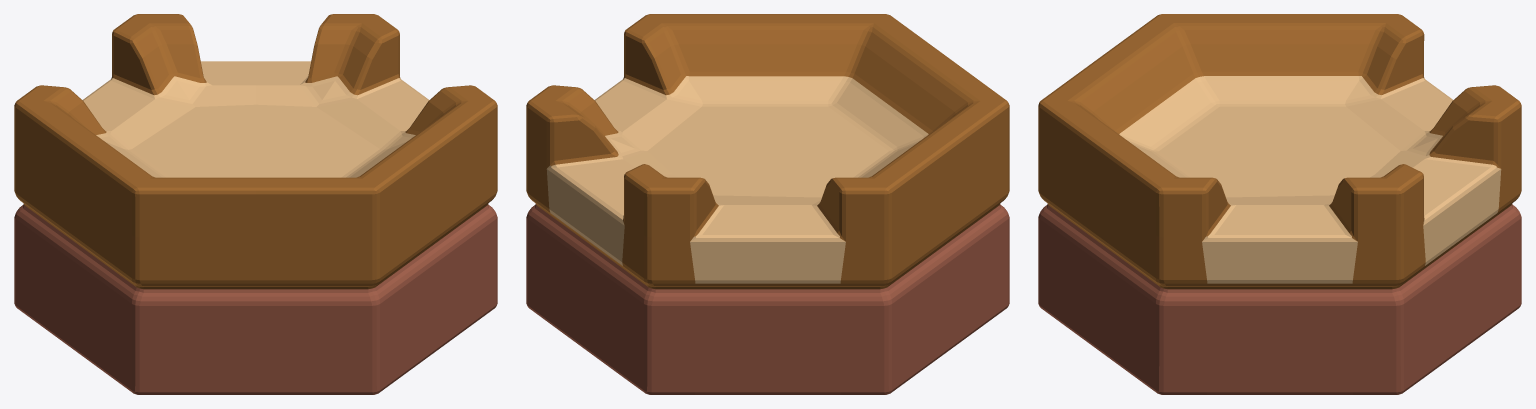
File: my_road_123.fbx
3 views of the same model, side by side, from view 1: azimuth 30°, elevation 25°; view 2: azimuth 150°, elevation 25°; view 3: azimuth 270°, elevation 25° (orthographic).
Parts seen in each view (by area): view 1: Circle.008; view 2: Circle.008; view 3: Circle.008.
Part boxes in pixels (x1,y1,x2,y2): Circle.008: (14, 14, 497, 394); Circle.008: (526, 14, 1009, 394); Circle.008: (1038, 14, 1521, 394).
Bounding box in the file's own units: 200 × 109 × 230.
